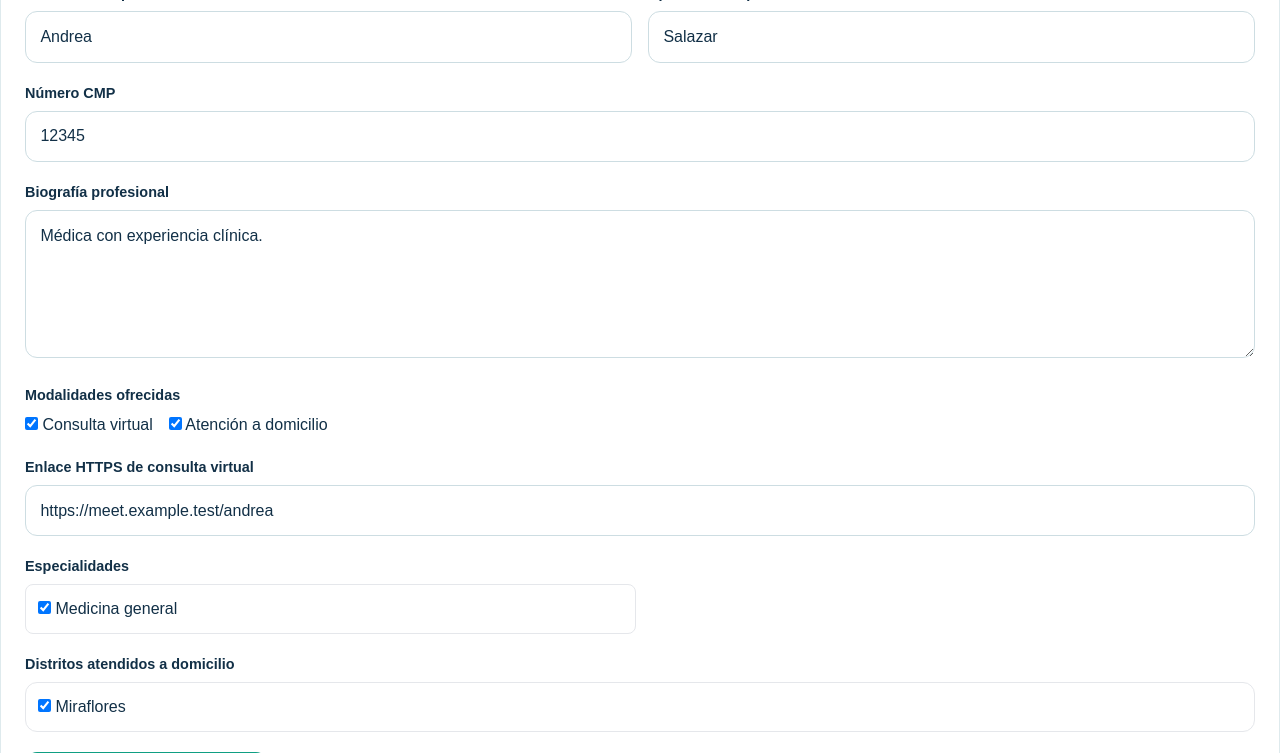
Test: DoctorProfileForm › hydrates and persists the full doctor profile
This screenshot has width=1280, height=753.
Expected: the field showing "Salazar" below "Apellidos completos" is enabled, [648,11,1255,63]
Expected: the field showing "12345" below "Número CMP" is enabled, [25,111,1255,162]
Replace the text in the field showing "Andrea" below "Nombres completos" with "Andrea Lucía" at (328, 37), box [25,11,632,63]
(page scrolled)
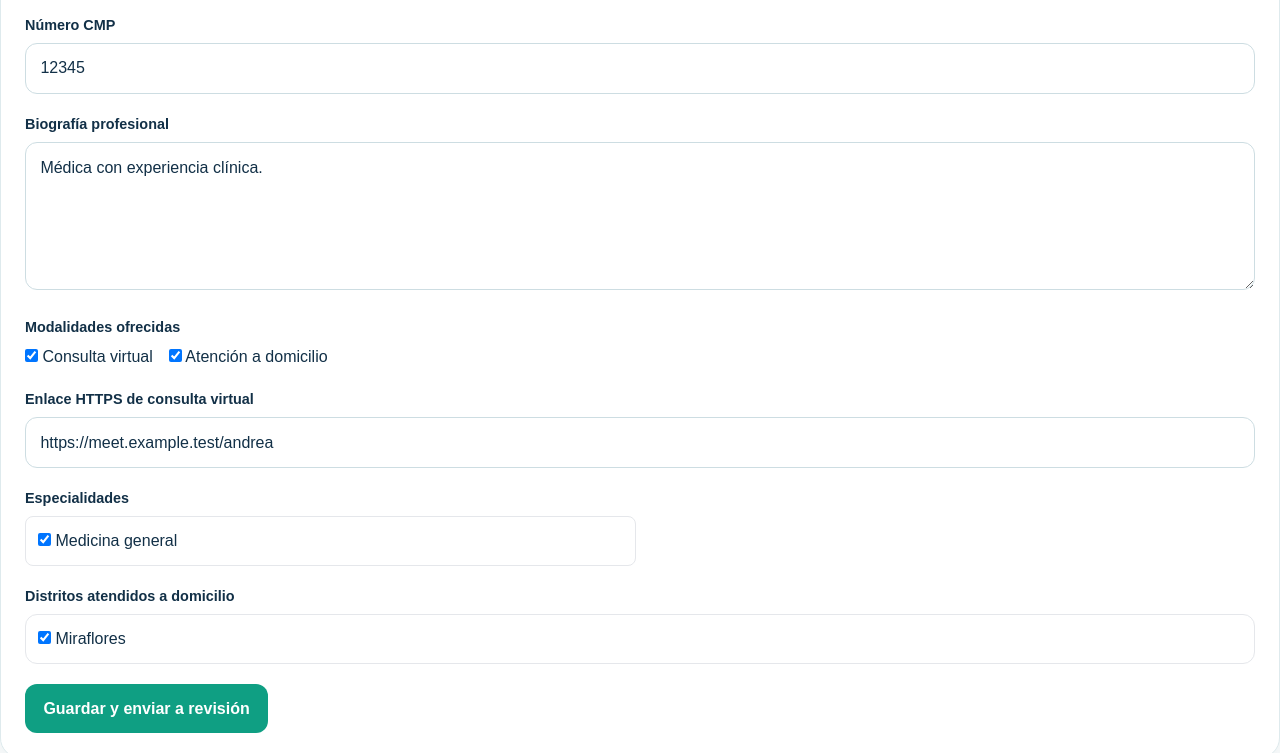
Click the button "Guardar y enviar a revisión" at (147, 709), box [25,684,268,733]
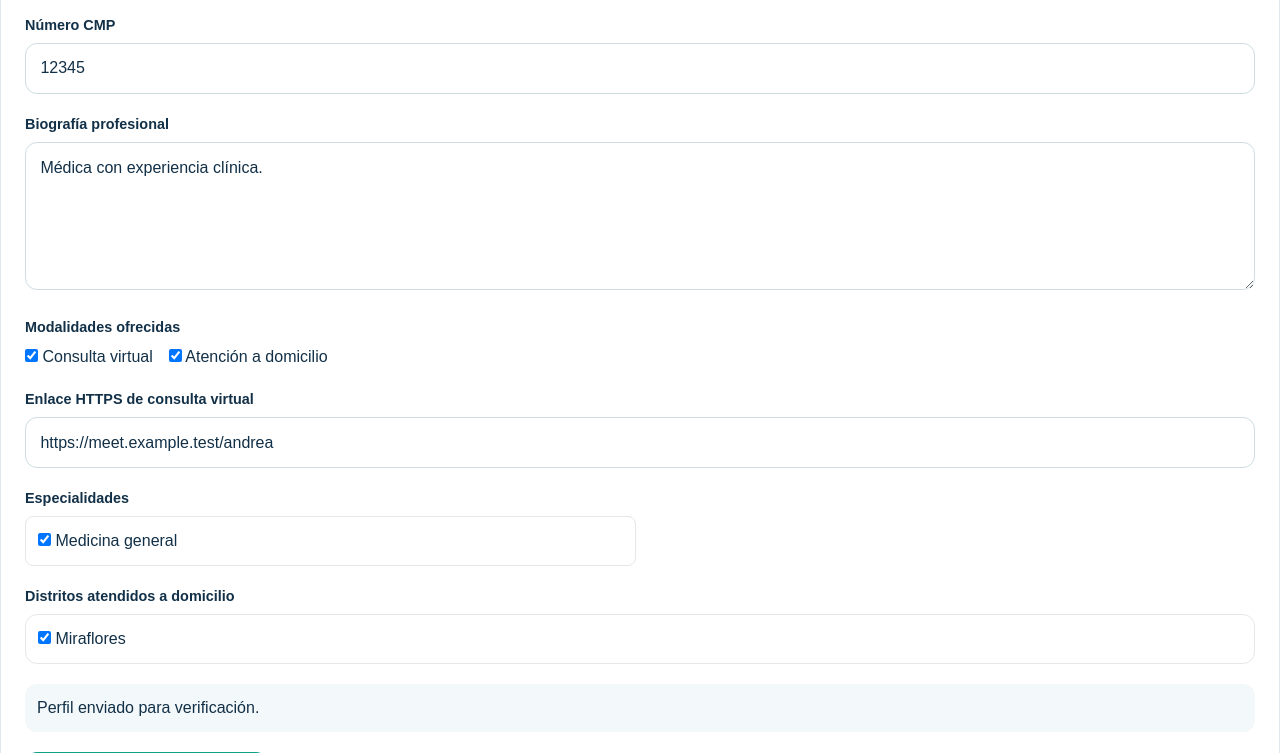
Now the message reads "Perfil enviado para verificación.", box [37,699,259,716]
